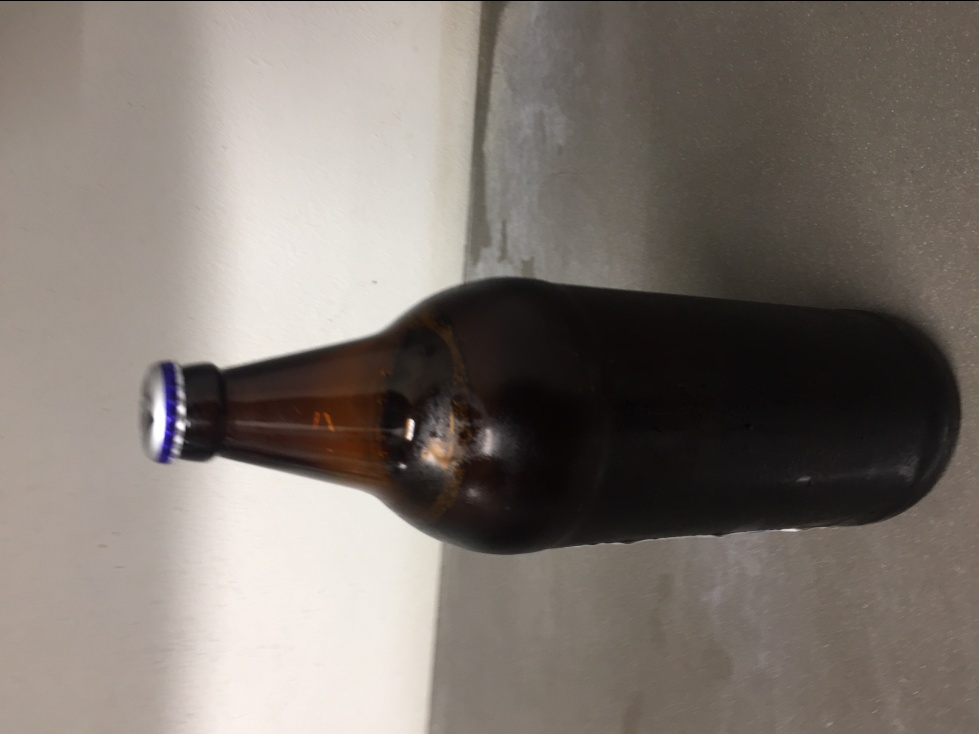tecateC: (134, 277, 965, 550)
